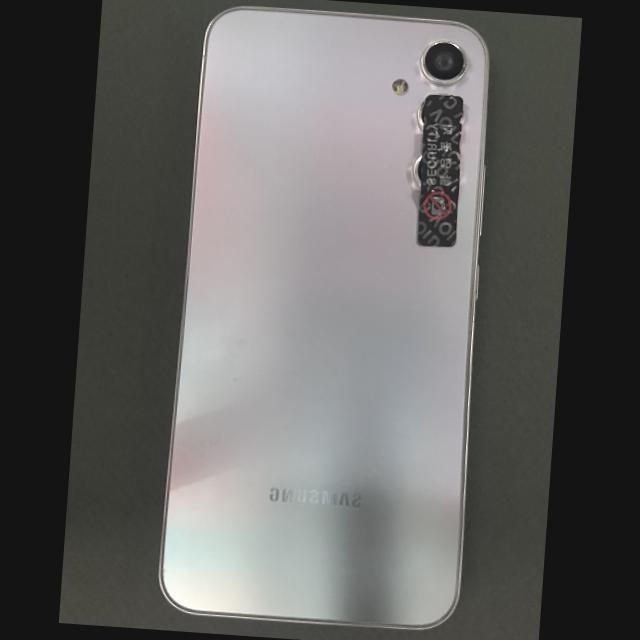lens: (420, 38, 467, 86), (413, 155, 421, 186), (417, 101, 424, 130)
phone: (157, 4, 490, 631)
sticker: (417, 94, 463, 247)
